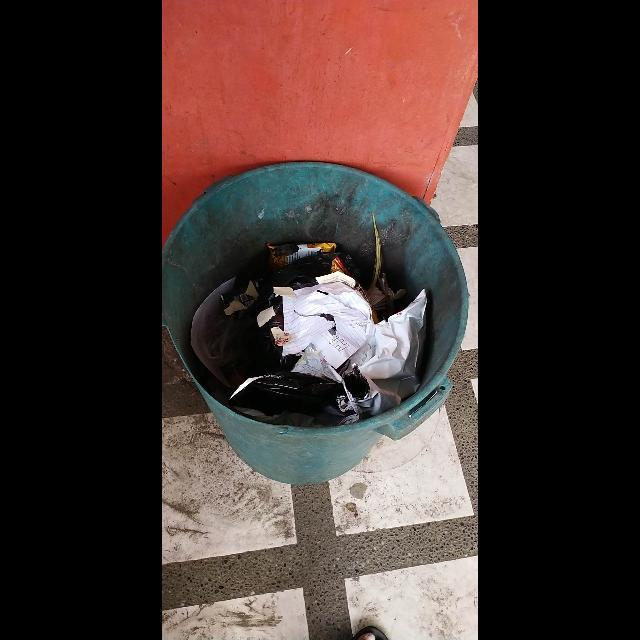paper: (283, 282, 375, 369), (191, 277, 236, 387)
plastic: (344, 289, 428, 414)
wrapper: (267, 242, 337, 272)
